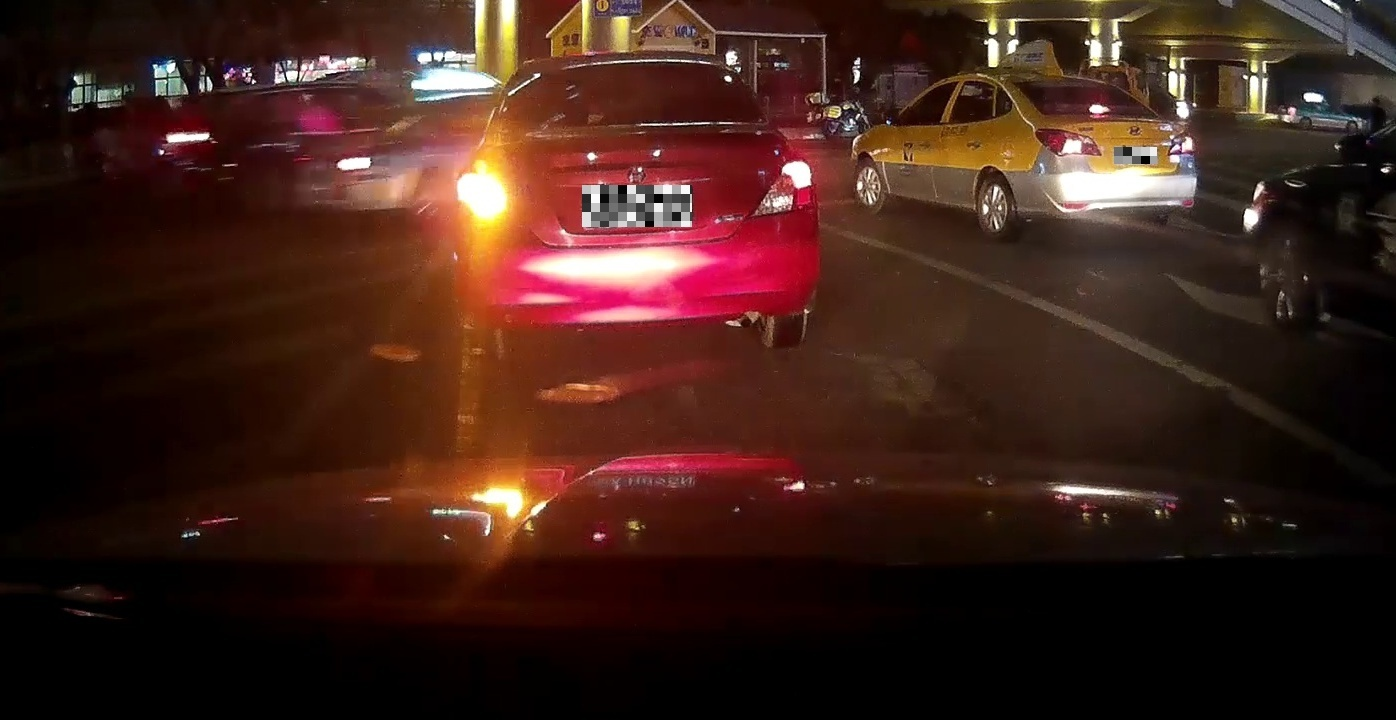L_light: (459, 159, 518, 224), (1034, 128, 1102, 158)
R_light: (748, 154, 815, 217), (1167, 130, 1196, 157)
T_light: (609, 58, 658, 67), (1086, 105, 1112, 116)
night-brake: (994, 73, 1197, 224)
night-left: (453, 49, 817, 352)
plate_1: (582, 185, 692, 227)
plate_2: (1114, 147, 1157, 164)
